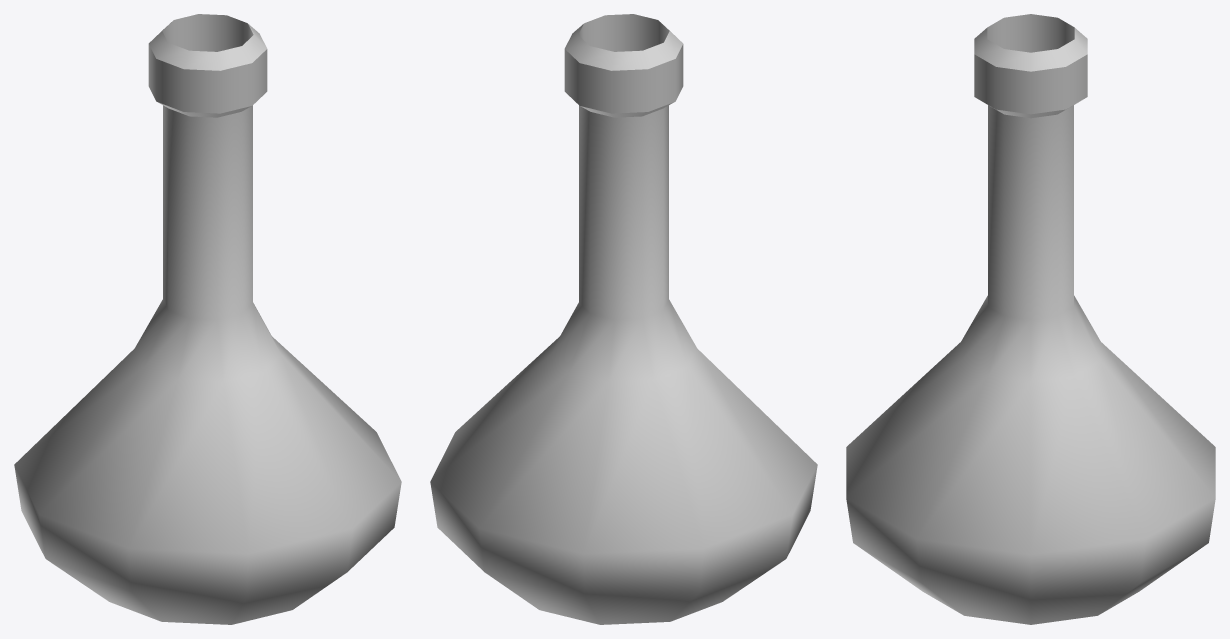
3 renders of one model, left to right at view 1: azimuth 30°, elevation 25°; view 2: azimuth 150°, elevation 25°; view 3: azimuth 270°, elevation 25°, orthographic.
Visible parts, largest first — view 1: Cylinder08; view 2: Cylinder08; view 3: Cylinder08.
Boxes of the visible parts, x1,y1,x2,y2 form: Cylinder08: (14,14,401,624); Cylinder08: (430,14,817,624); Cylinder08: (846,14,1215,624).
Size of the model in its own units: 4.57 by 7.05 by 4.35.
